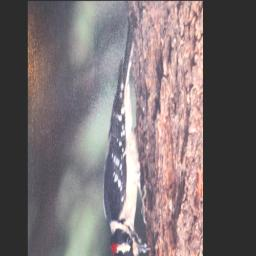Woodpecker: (101, 16, 151, 256)
